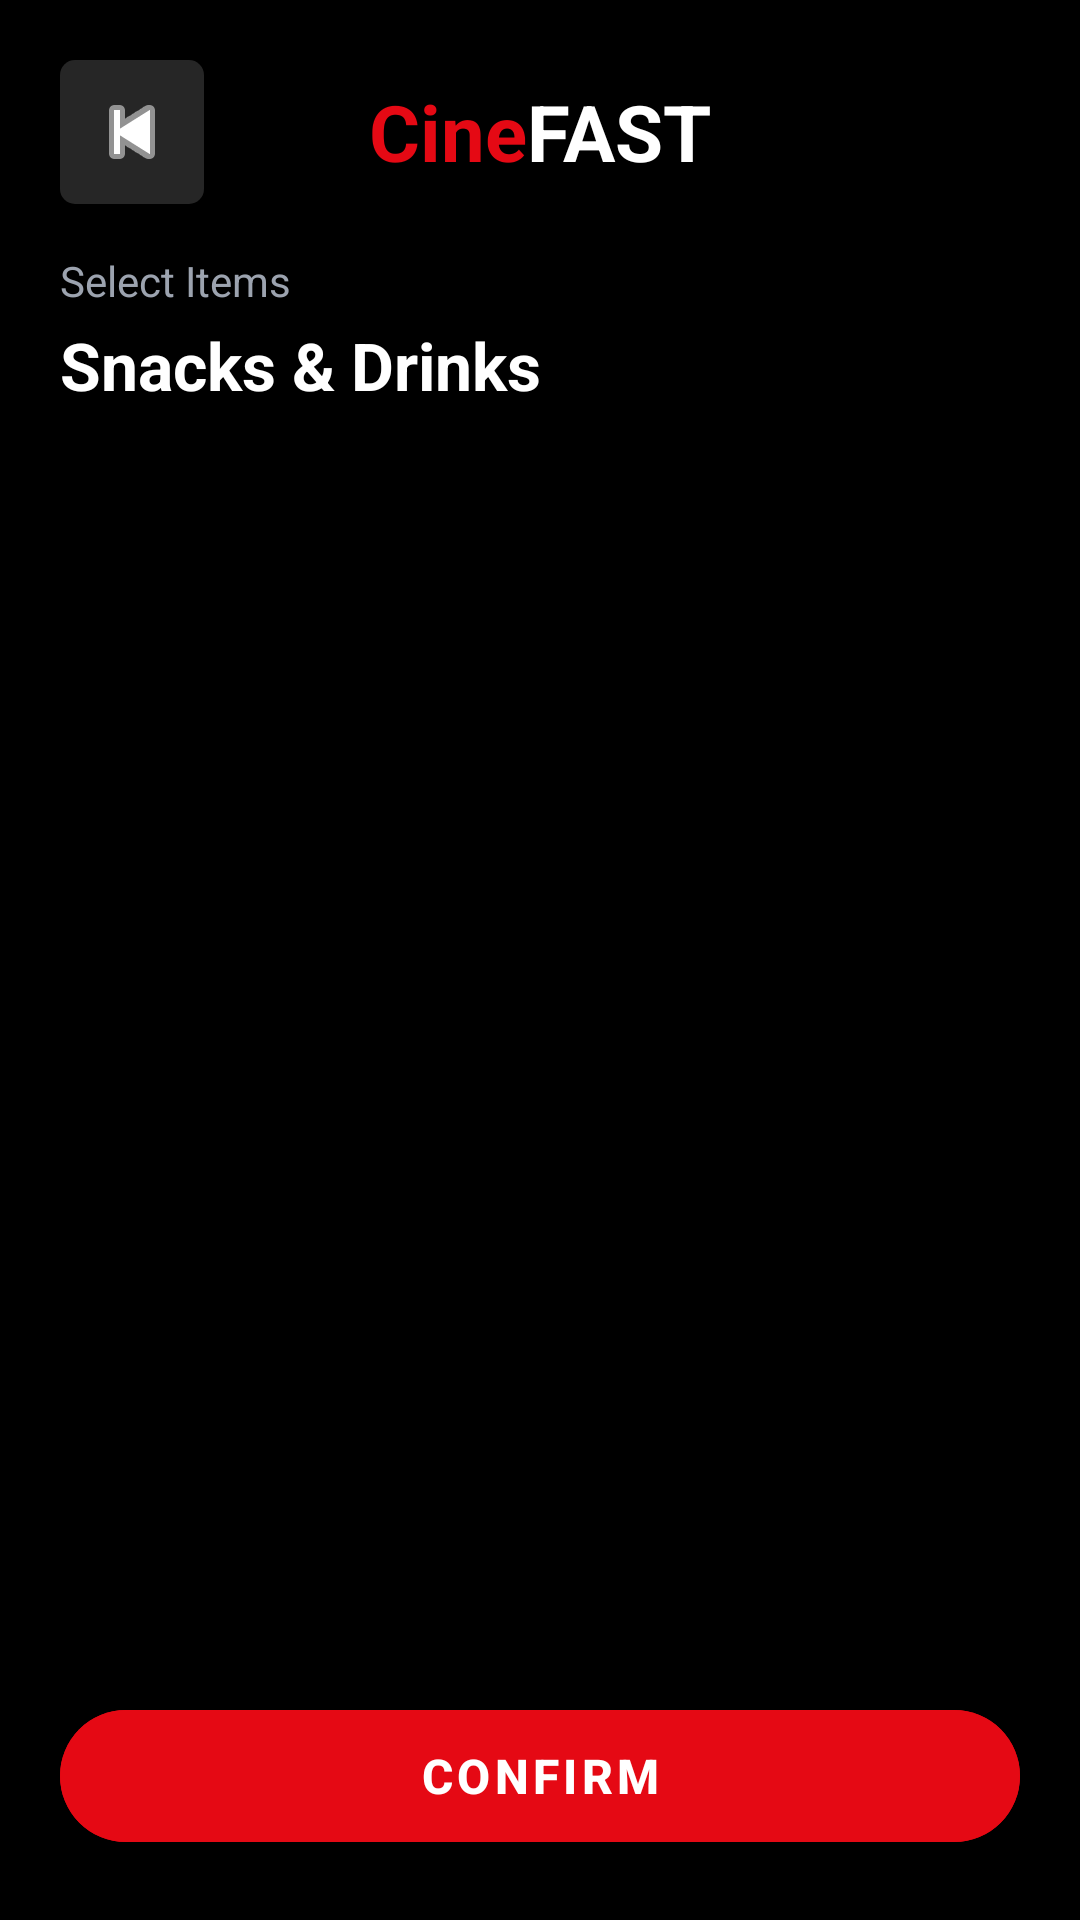

Screen size 1080px×1920px. Icon name, then its center in pixels as [x,y]:
previous: [132,132]
